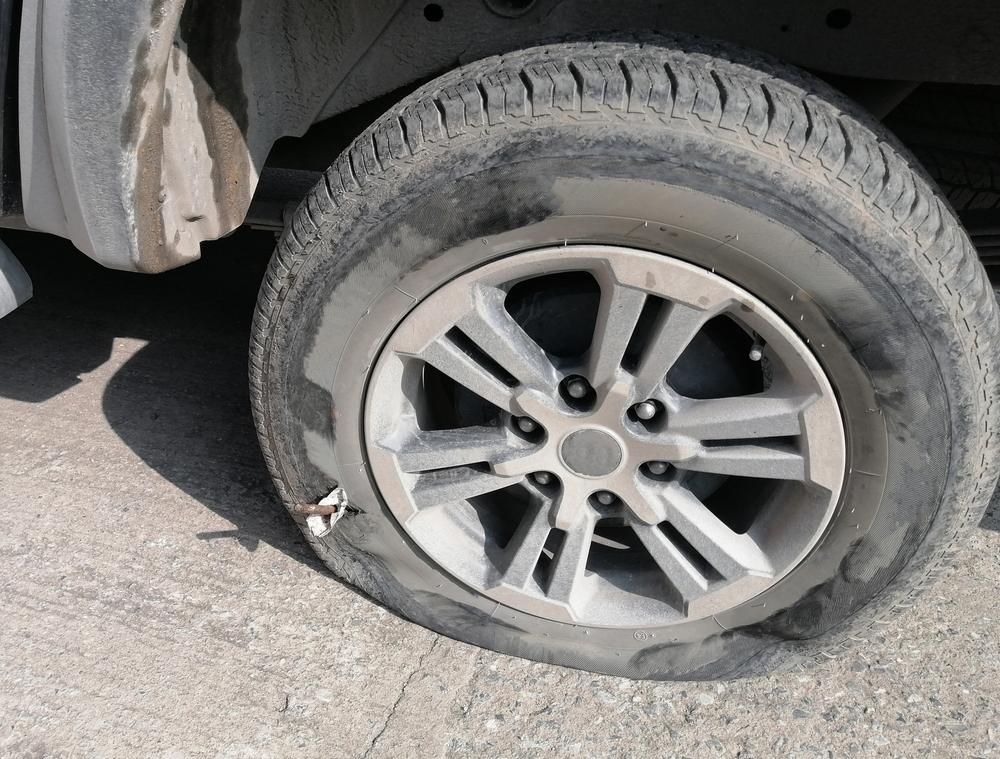tire flat: (249, 32, 1000, 682)
